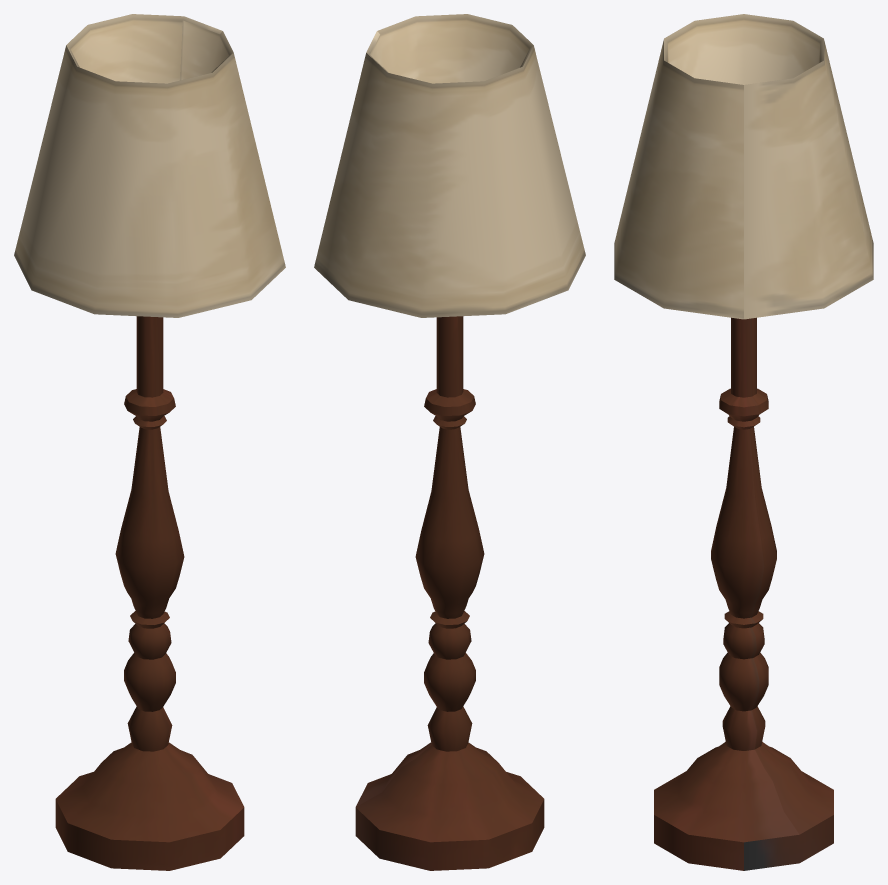
The model's file is lampe.FBX.
3 views of the same model, side by side, from view 1: azimuth 30°, elevation 25°; view 2: azimuth 150°, elevation 25°; view 3: azimuth 270°, elevation 25° (orthographic).
Parts seen in each view (by area): view 1: Cylinder001; view 2: Cylinder001; view 3: Cylinder001.
Part boxes in pixels (left/top/right/bottom): Cylinder001: left=14, top=14, right=285, bottom=870; Cylinder001: left=314, top=14, right=585, bottom=870; Cylinder001: left=614, top=14, right=873, bottom=870.
Bounding box in the file's own units: 54.68 × 173 × 52.01.
